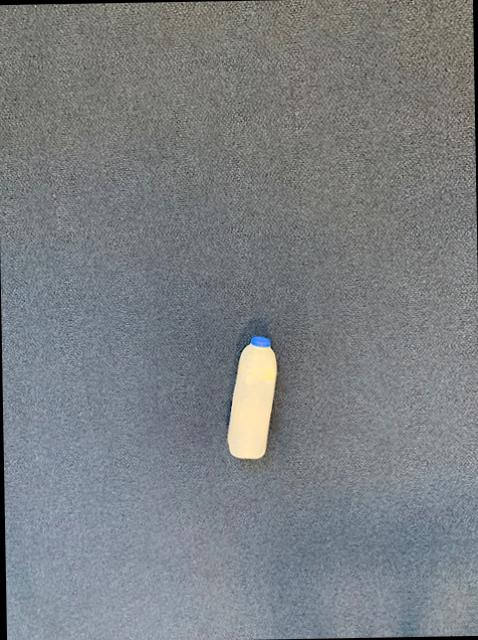plastic: (225, 337, 274, 459)
